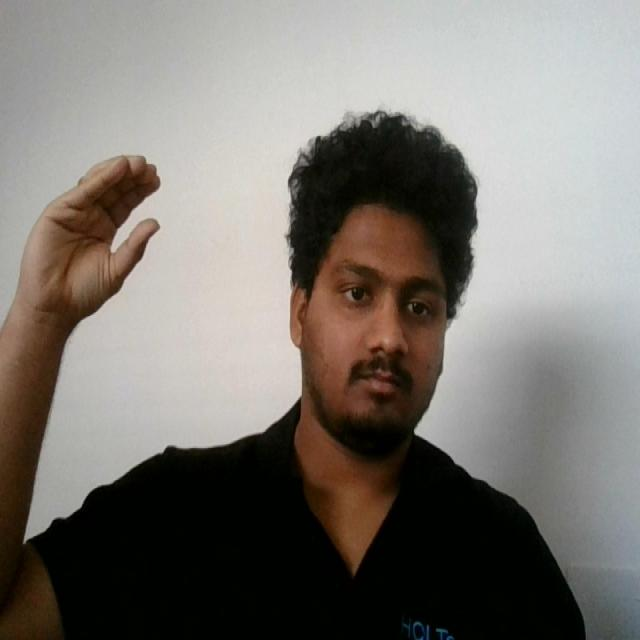No: (12, 147, 169, 336)
